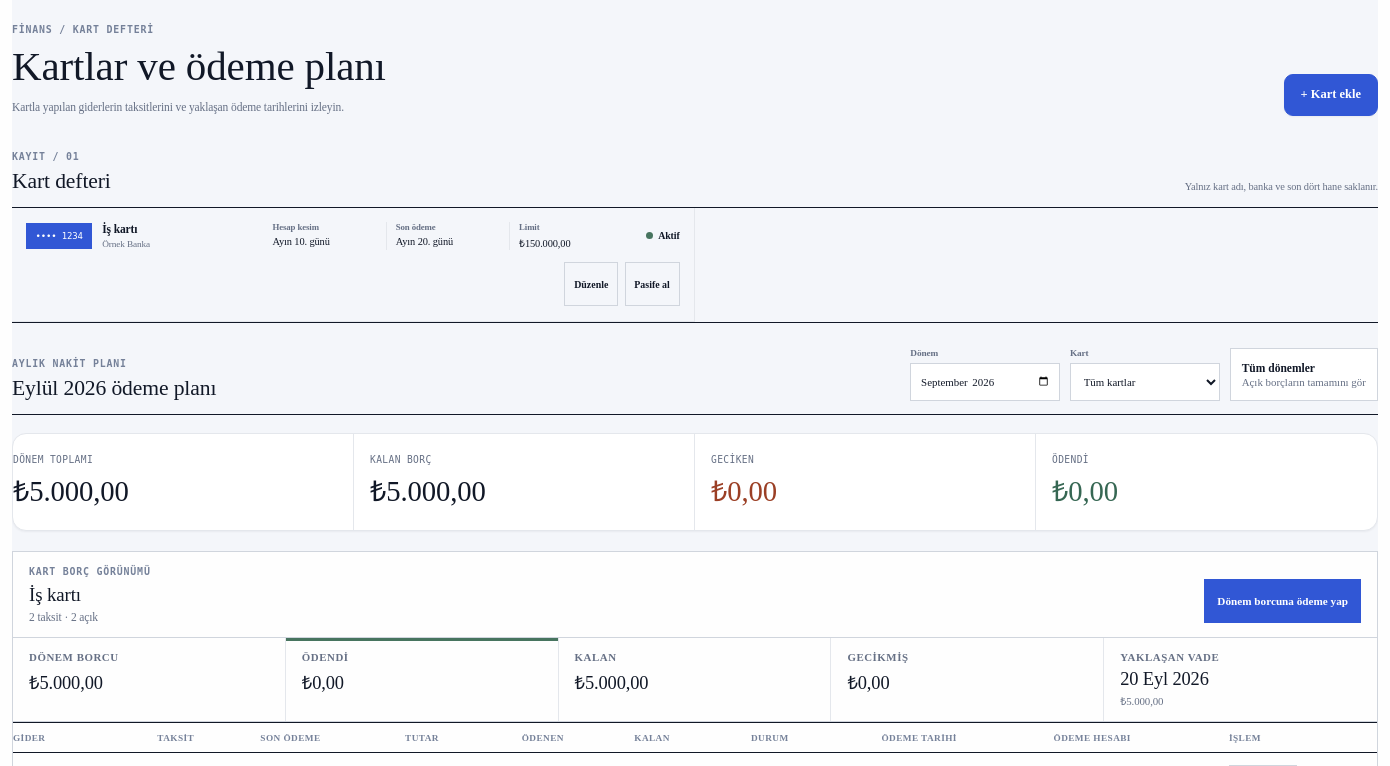
it: CardPlanWorkspace › partially pays a card period with a stable key for each open installment
This screenshot has width=1390, height=766.
Click the button "Dönem borcuna ödeme yap" at (1283, 601), box [1204,579,1361,623]
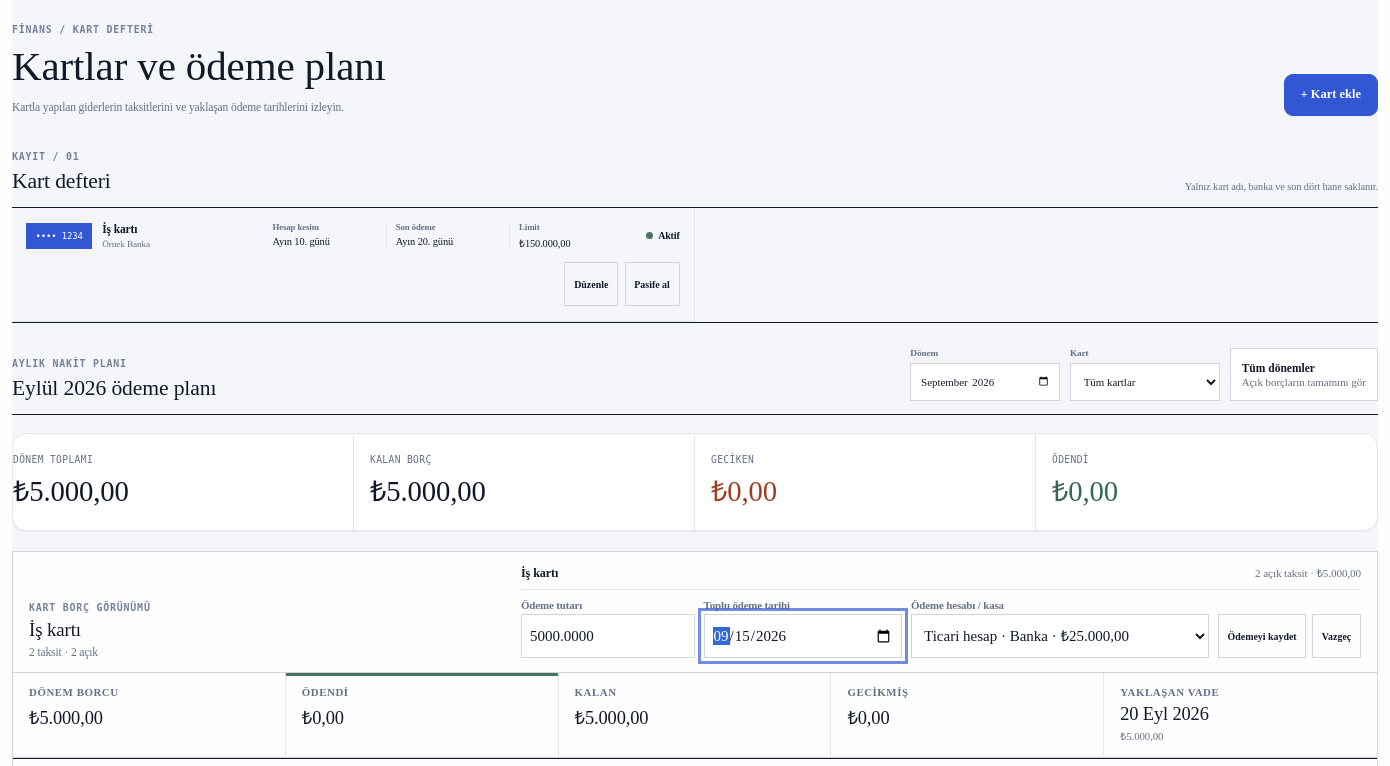
Expected: the text "İş kartı" in the row of "açık taksit ·" is shown, [521,566,558,580]
Expected: the text "2 açık taksit · ₺5.000,00" is shown, [1255,565,1361,580]
Expected: the number field named "İş kartı dönem ödeme tutarı" holds "5000", [521,614,695,658]
Click the button "Vazgeç" at (1337, 636), box [1312,614,1361,658]
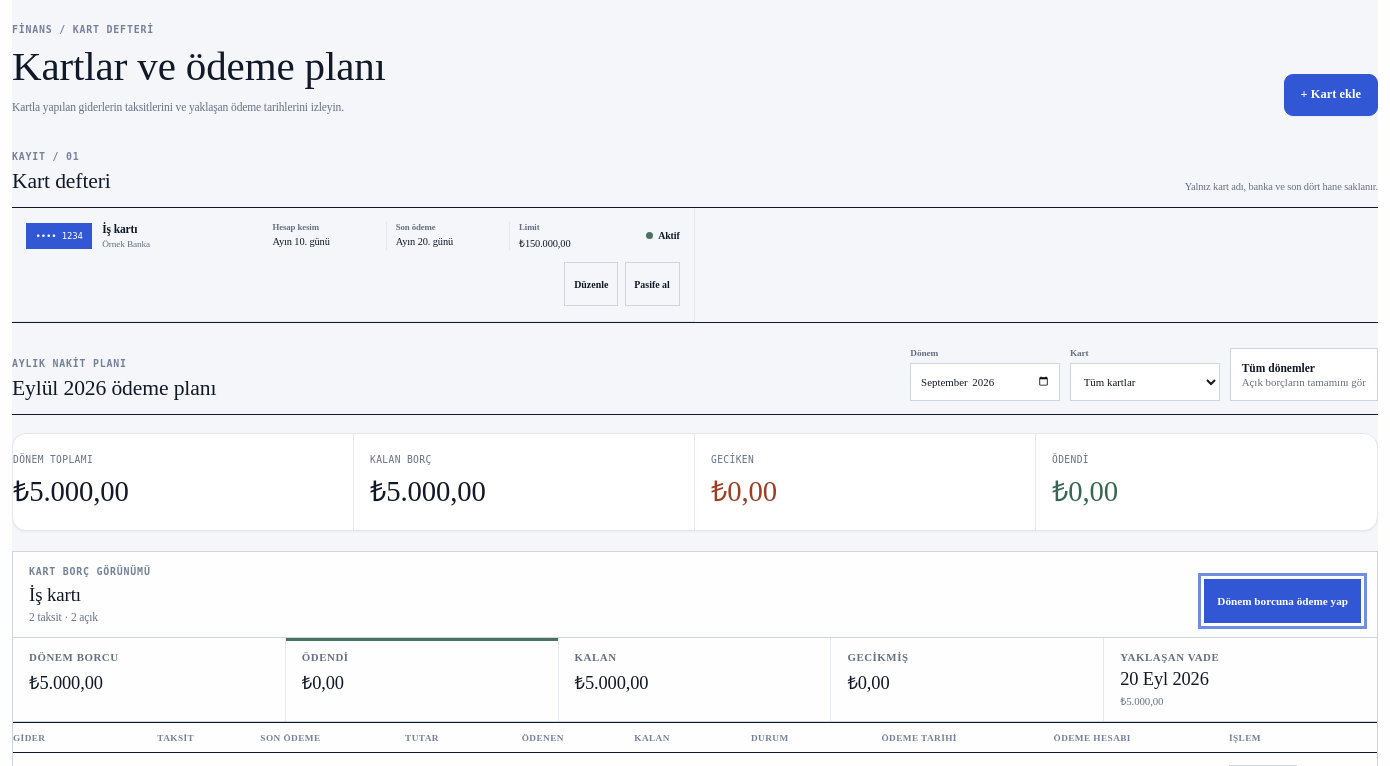
Click the button "Dönem borcuna ödeme yap" at (1283, 601), box [1204,579,1361,623]
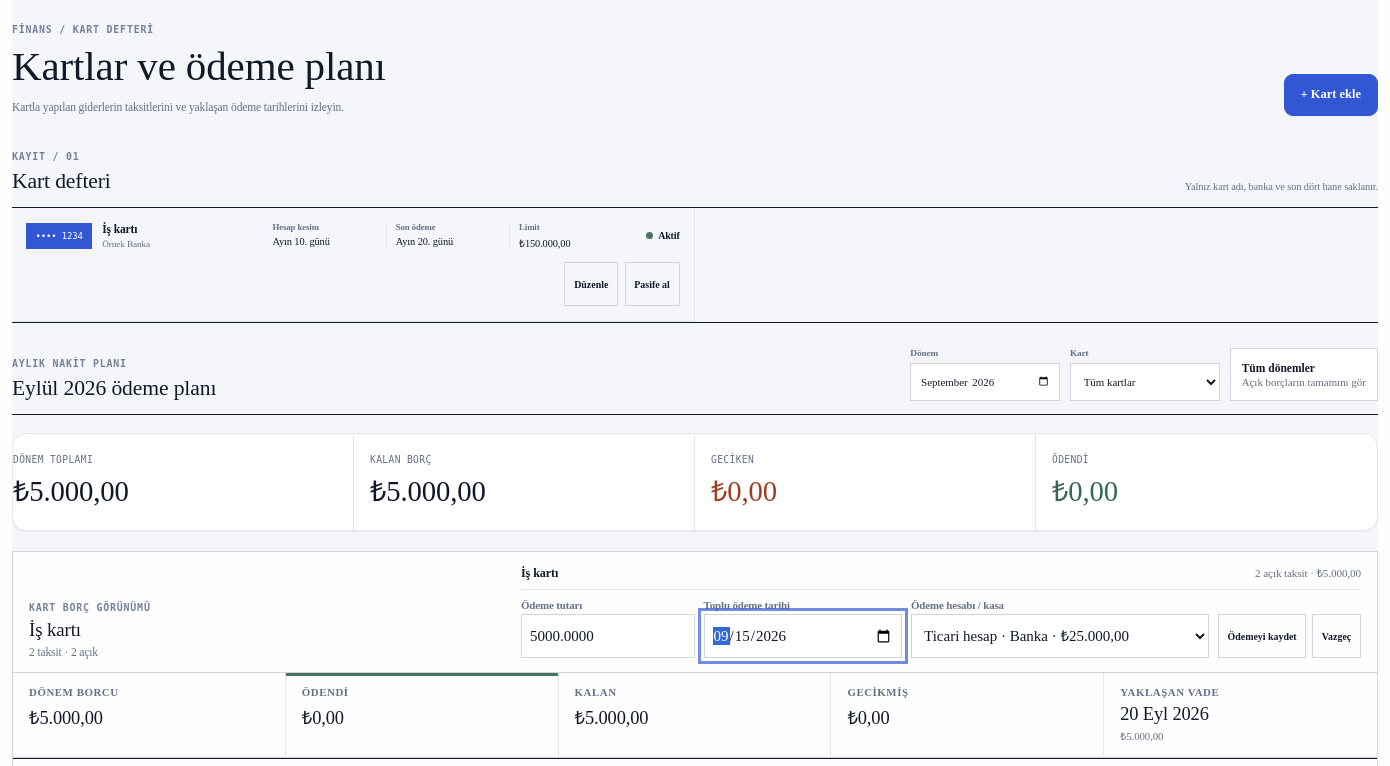
Type "2026-09-03" into the date field named "İş kartı toplu ödeme tarihi" at (803, 636), box [704,614,902,658]
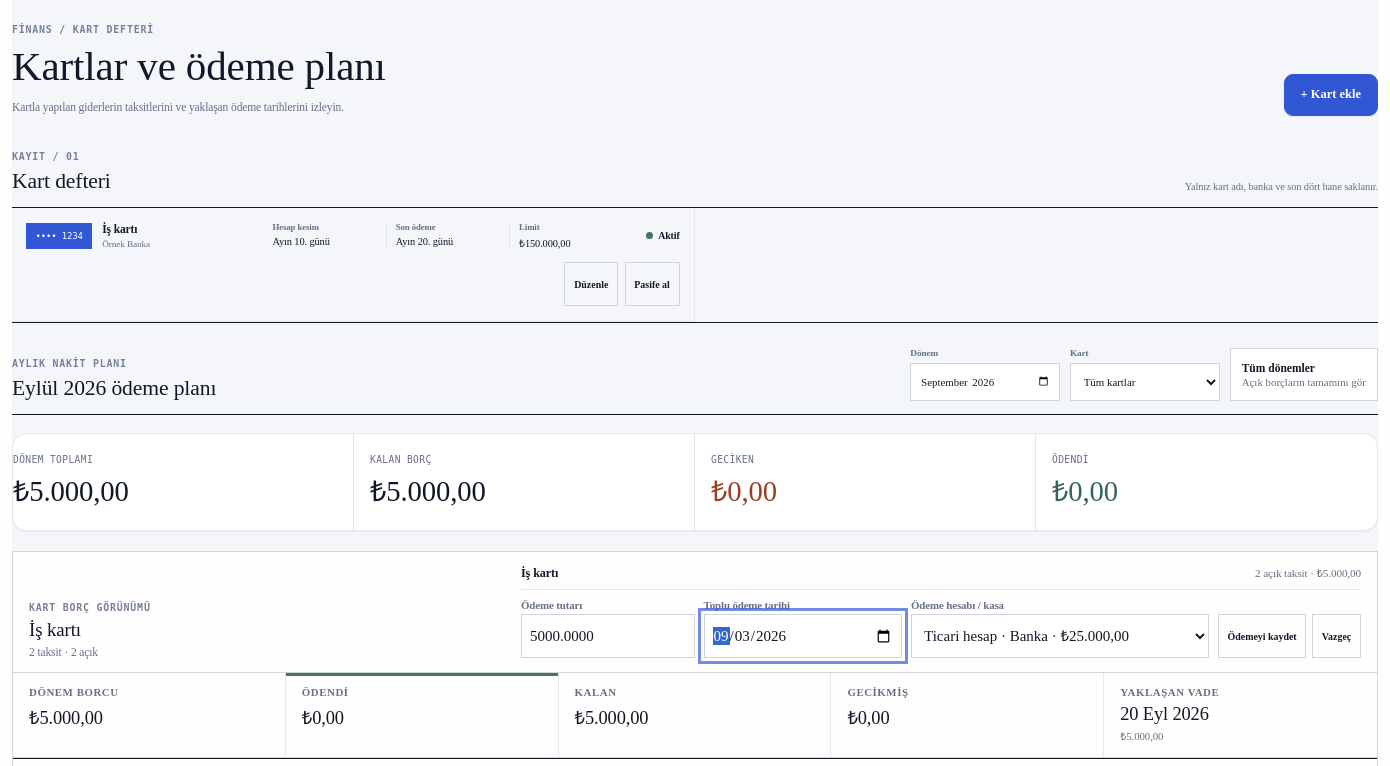
Replace the text in the number field named "İş kartı dönem ödeme tutarı" with "2500" at (608, 636), box [521,614,695,658]
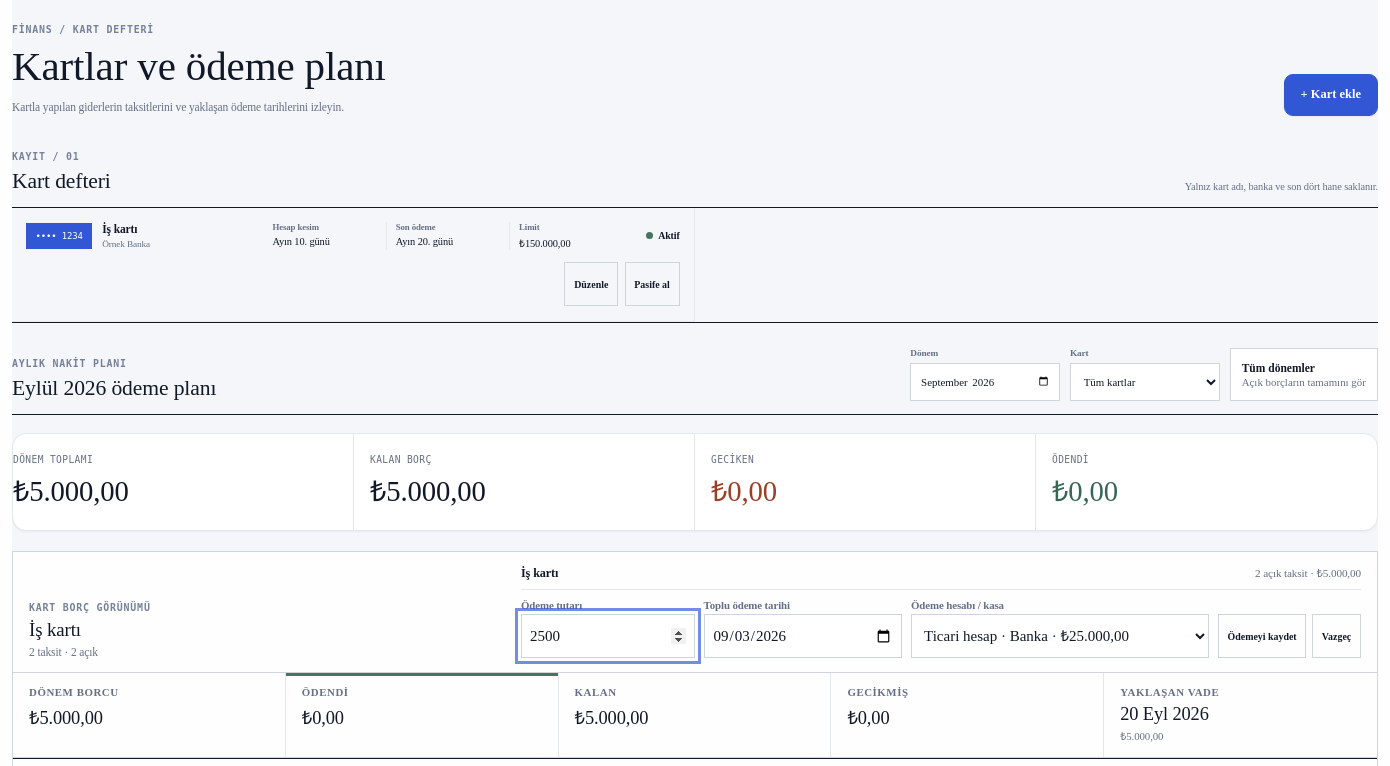
Click the button "Ödemeyi kaydet" at (1262, 636), box [1218,614,1306,658]
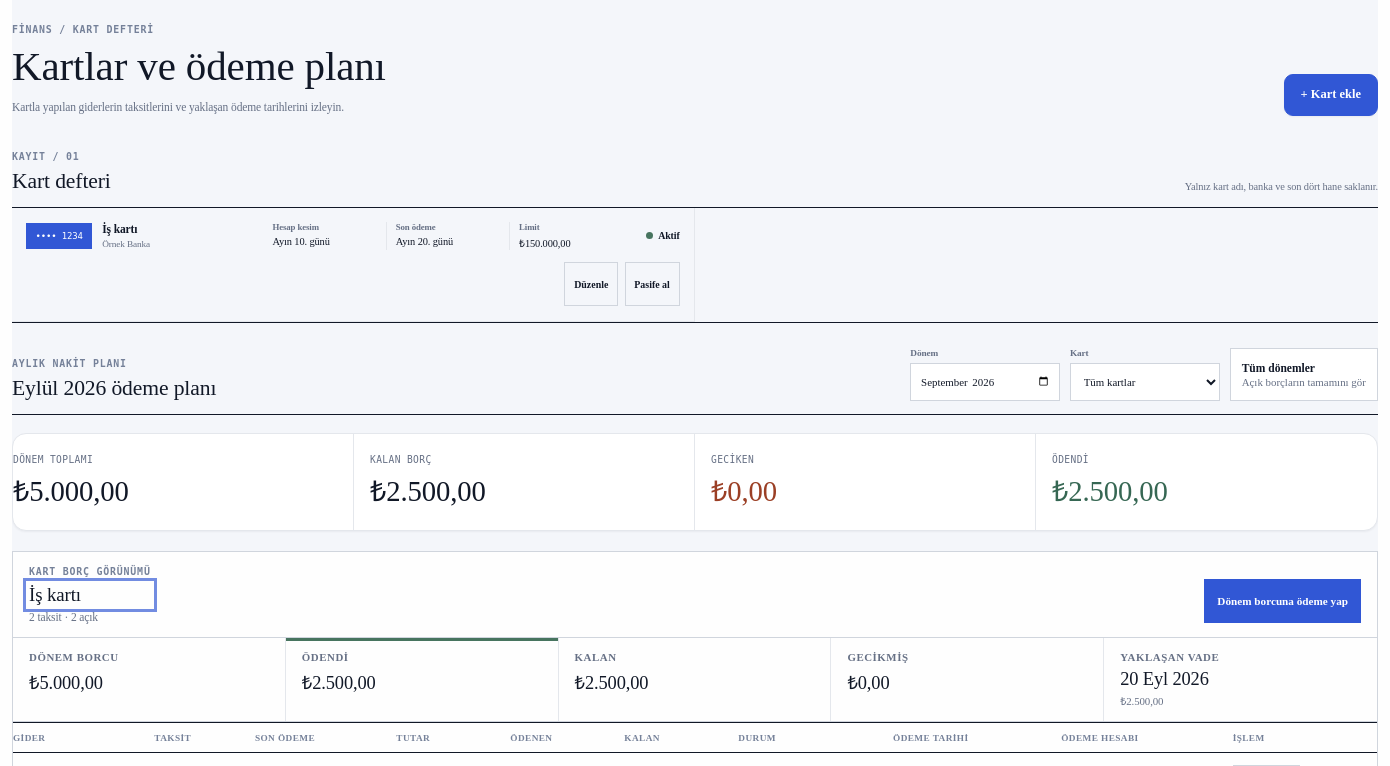
Expected: the button "Dönem borcuna ödeme yap" is shown, [1204,579,1361,623]
Expected: the text "₺2.500,00" below "Kalan borç" is shown, [370,475,486,507]
